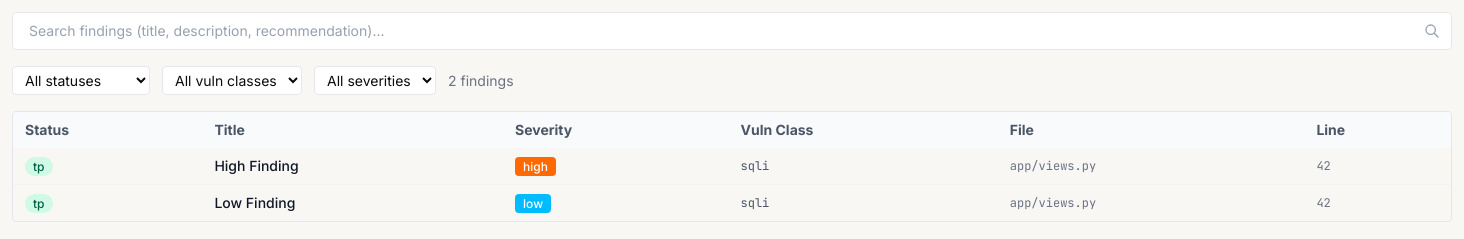
FindingsExplorer › filters by severity
This screenshot has width=1464, height=239.
Select "high" in the 3rd dropdown at (375, 80), box left=314, top=66, right=436, bottom=95
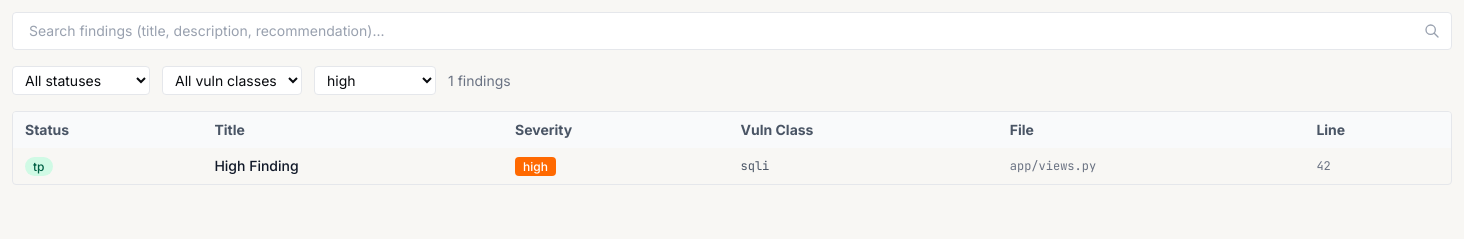
Check: the text "High Finding" is shown, box left=202, top=148, right=503, bottom=184
Check: the text "Low Finding" is gone
